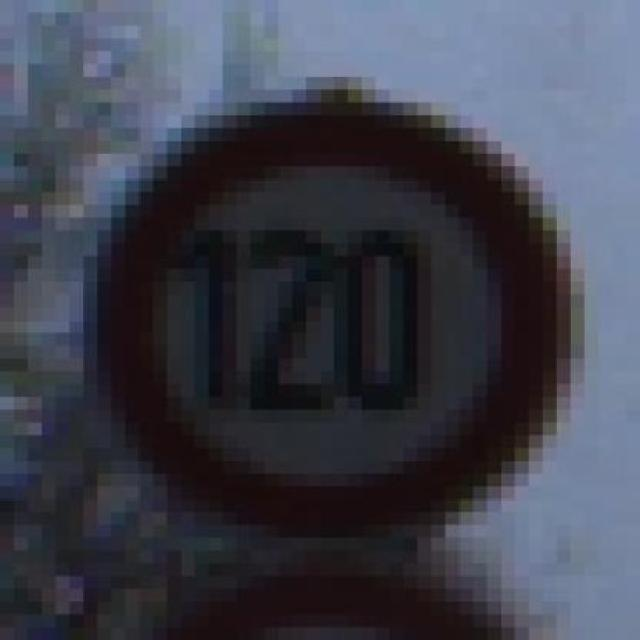forb_speed_over_120: (102, 105, 556, 537)
